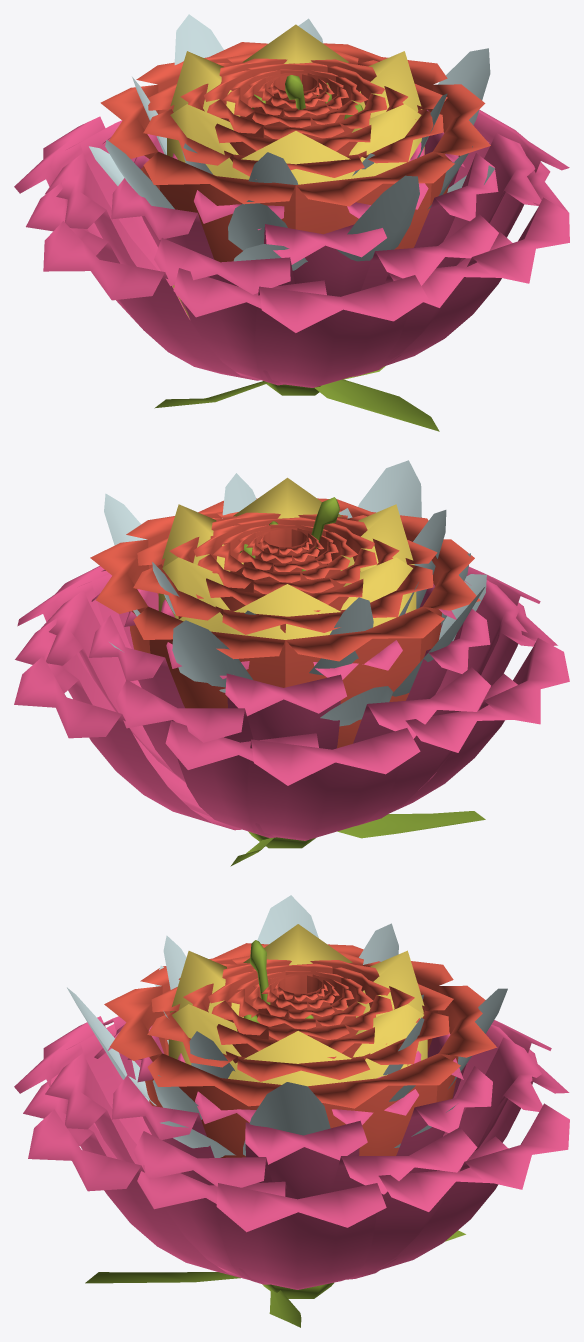
File: Flower.fbx
3 renders of one model, top to bottom at view 1: azimuth 30°, elevation 25°; view 2: azimuth 150°, elevation 25°; view 3: azimuth 270°, elevation 25°, orthographic.
Parts seen in each view (by area): view 1: Flower_4, Sphere.001, Flower_2, Flower_3; view 2: Flower_4, Sphere.001, Flower_2, Flower_3; view 3: Flower_4, Sphere.001, Flower_2, Flower_3.
Boxes of the visible parts, x1=… form: Flower_4: x1=14, y1=109, x2=569, y2=431; Sphere.001: x1=100, y1=42, x2=490, y2=262; Flower_2: x1=89, y1=14, x2=494, y2=270; Flower_3: x1=167, y1=24, x2=424, y2=318; Flower_4: x1=14, y1=566, x2=569, y2=866; Sphere.001: x1=90, y1=498, x2=480, y2=748; Flower_2: x1=104, y1=460, x2=486, y2=726; Flower_3: x1=158, y1=477, x2=416, y2=639; Flower_4: x1=14, y1=1016, x2=569, y2=1327; Sphere.001: x1=104, y1=943, x2=496, y2=1157; Flower_2: x1=67, y1=895, x2=507, y2=1157; Flower_3: x1=168, y1=924, x2=427, y2=1086.
Bounding box in the file's own units: 229 × 144 × 218.
